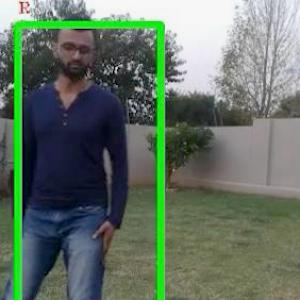follow: (23, 13, 124, 299)
